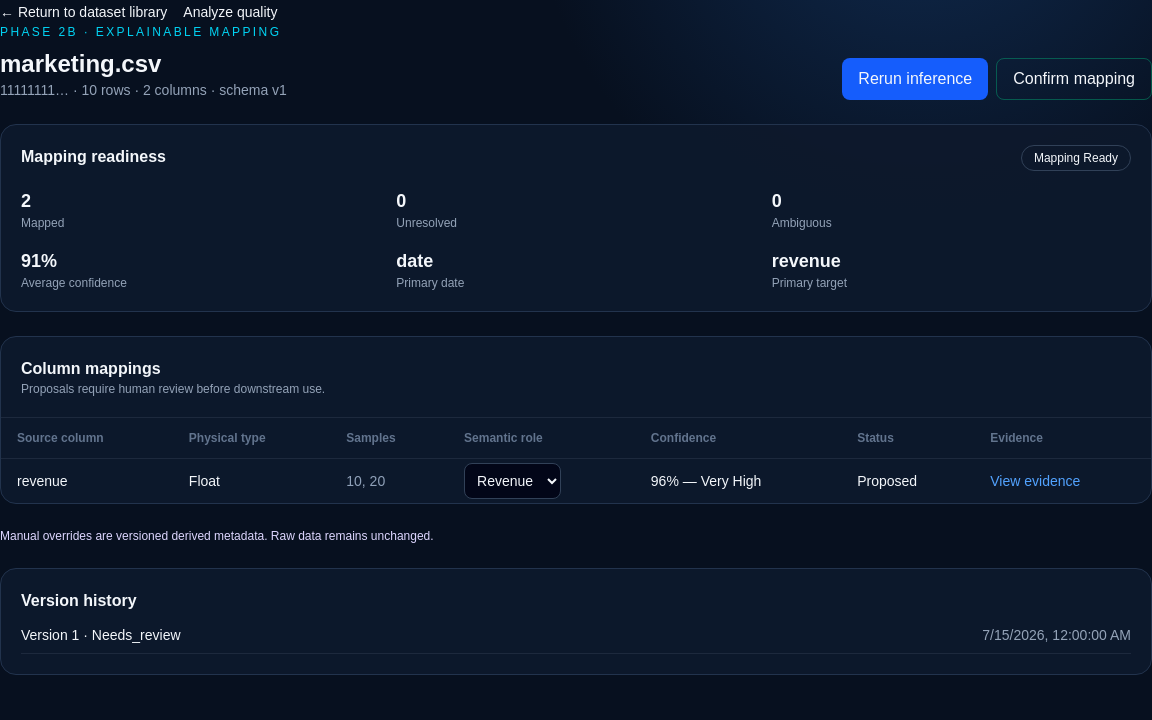
Test: Schema mapping workspace › opens explainable evidence and alternatives
Click the button "View evidence". click: {"x": 1035, "y": 481}
box: [990,471,1080,491]
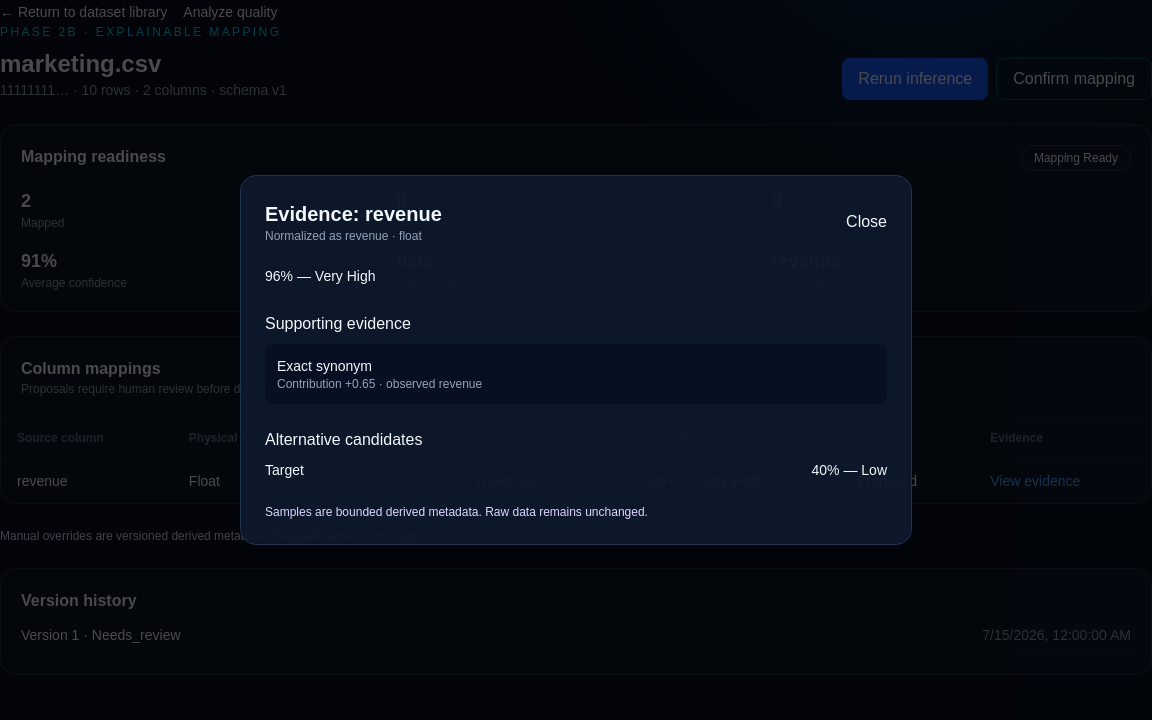
Now the dialog "Evidence: revenue" is shown
Now the list item "Exact synonym" is shown, box [277,358,372,374]
Now the text "target" is shown, box [265,460,304,480]
